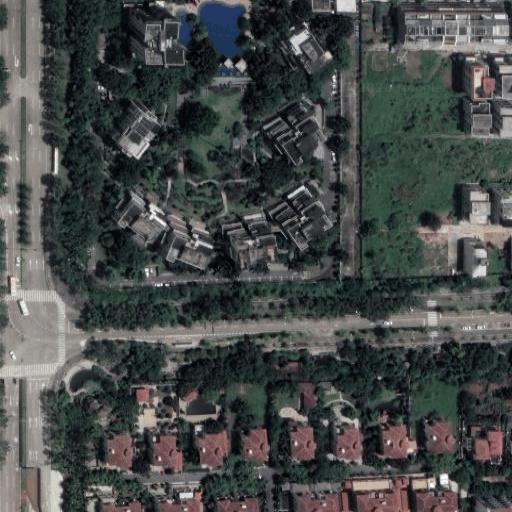building: (396, 3, 500, 34), (260, 96, 312, 144), (99, 95, 146, 145), (272, 181, 319, 222), (268, 30, 310, 75), (121, 184, 165, 224), (35, 460, 64, 512), (126, 4, 162, 45), (220, 210, 265, 242), (169, 216, 211, 249), (199, 429, 229, 467), (154, 436, 183, 471), (411, 487, 453, 510), (353, 489, 393, 512), (293, 491, 336, 512), (290, 427, 315, 459), (108, 435, 131, 468), (428, 420, 452, 451), (473, 426, 500, 453), (383, 425, 407, 455), (489, 57, 512, 88), (244, 429, 268, 458), (337, 428, 361, 457), (462, 184, 481, 217), (463, 59, 483, 90), (461, 96, 480, 128), (492, 186, 512, 215), (474, 494, 506, 512), (216, 498, 257, 512), (352, 479, 392, 492), (490, 100, 507, 130), (156, 501, 202, 512), (295, 382, 314, 408), (98, 499, 136, 512), (463, 236, 478, 266), (275, 362, 304, 374), (181, 386, 200, 402), (143, 407, 157, 428), (342, 490, 352, 512), (410, 479, 427, 490), (84, 499, 98, 512), (136, 389, 148, 402), (401, 489, 408, 511), (179, 492, 193, 502), (396, 487, 402, 510), (319, 382, 332, 392), (472, 426, 485, 436), (508, 236, 512, 266), (509, 6, 512, 37), (467, 436, 473, 450), (192, 492, 201, 501), (407, 441, 416, 449), (198, 429, 205, 439), (510, 443, 512, 456)
